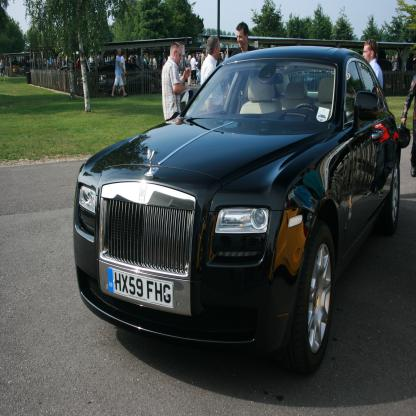Vehicle: (72, 45, 402, 364)
